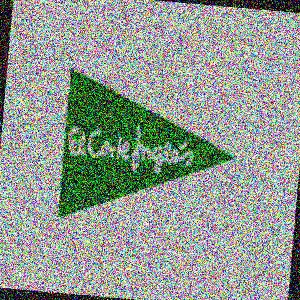corte_ingles: (213, 34, 268, 102)
